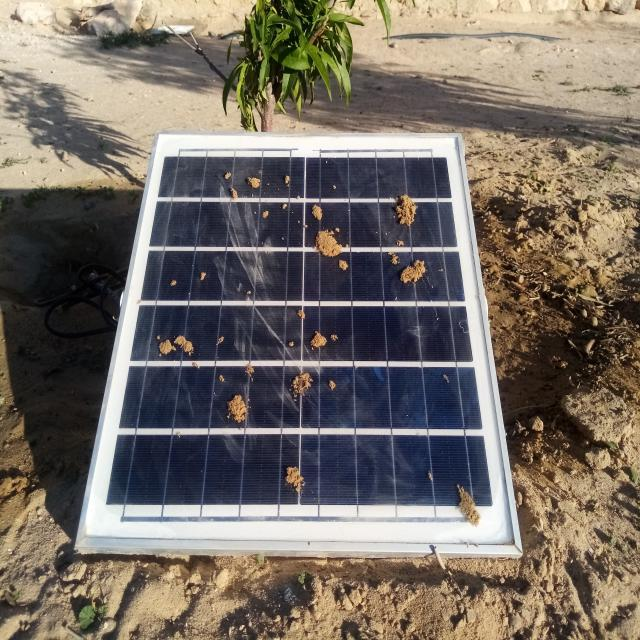faulty: (77, 135, 518, 548)
